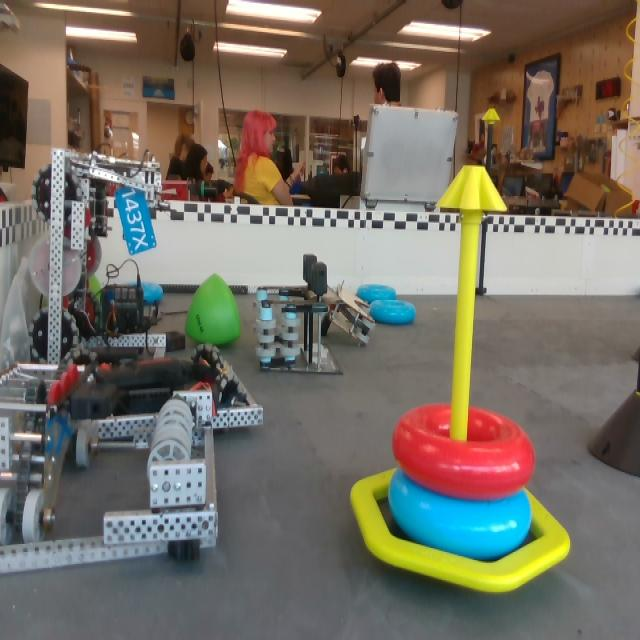Blue-Ring: (387, 472, 531, 555), (365, 298, 416, 328), (351, 284, 398, 302), (134, 284, 163, 304)
Mobile-Goal: (350, 160, 576, 598)
Red-Ring: (389, 403, 537, 506)
Yellow-Stake-Head: (436, 165, 507, 212), (482, 109, 500, 124)
